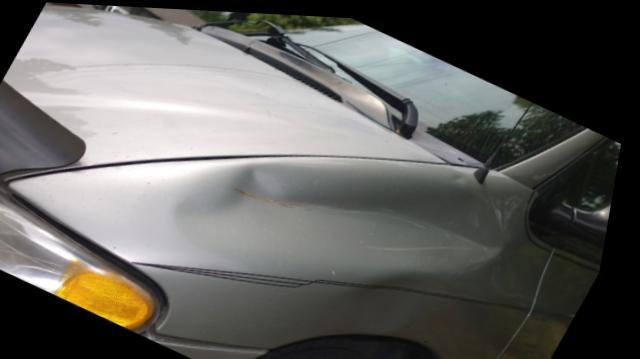dent: (179, 158, 514, 323)
